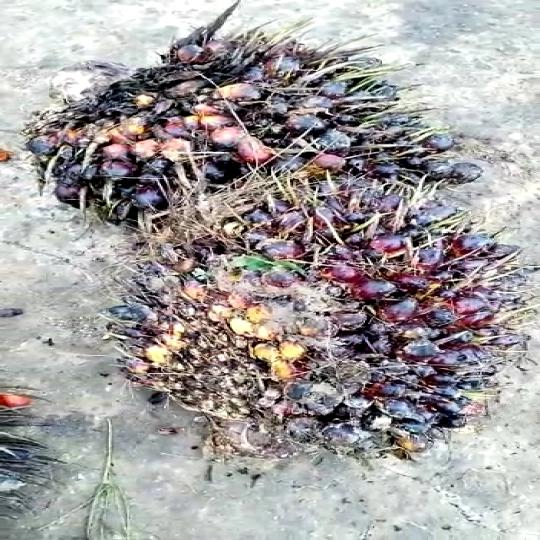kurang masak: (138, 184, 498, 454), (63, 36, 486, 216)
